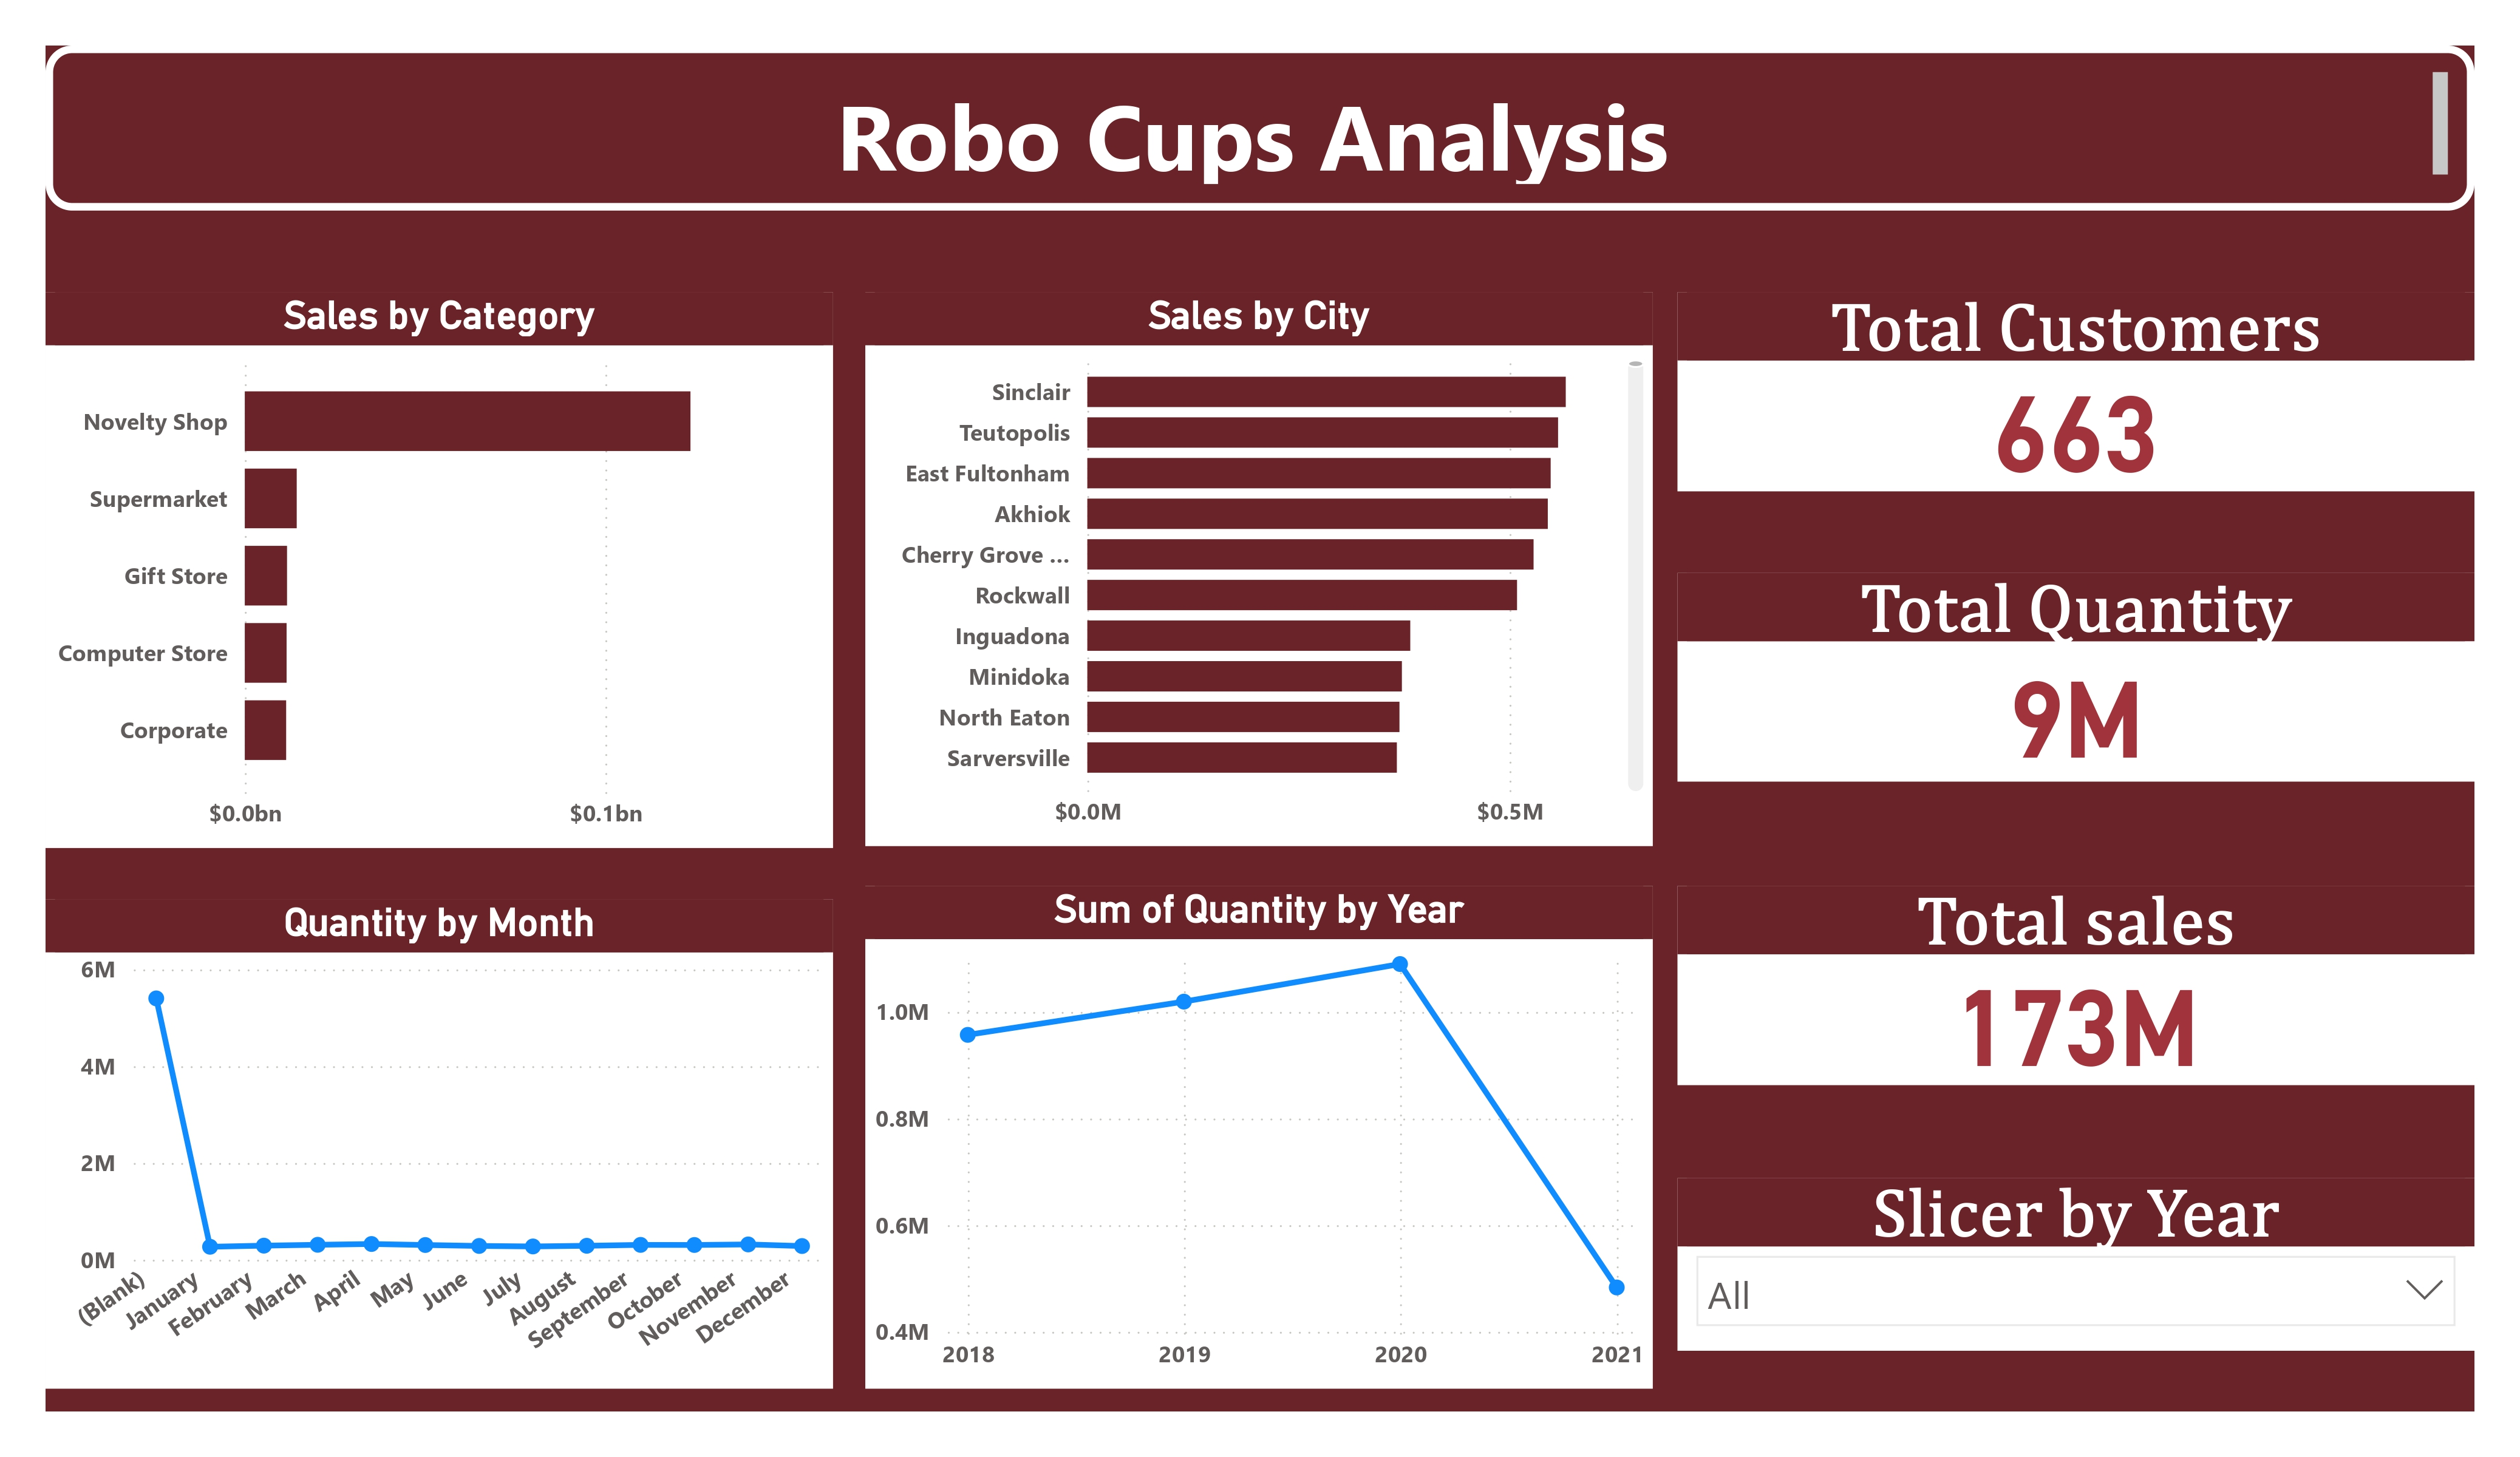

What the dashboard file says about the page in this screenshot:
{"tool":"powerbi","page":{"name":"Overview","canvas":[1280,720],"ordinal":0},"visuals":[{"type":"barChart","title":"Sales by Category","fields":{"Category":["MasterCustomer1.CustomerCategoryName"],"Y":["Sum(InvoiceData.Sales)"]},"box":[0,130,415,293.3],"z":0},{"type":"slicer","title":"Slicer by Year","fields":{"Values":["InvoiceData.Date.Variation.Date Hierarchy.Year"]},"box":[860,596.7,420,91.7],"z":1000},{"type":"lineChart","title":" Quantity by Month","fields":{"Y":["Sum(InvoiceData.Quantity)"],"Category":["InvoiceData.Date.Variation.Date Hierarchy.Month"]},"box":[0,450,415,258.3],"z":2000},{"type":"textbox","box":[0,0,1280,86.7],"z":3000},{"type":"card","title":"Total sales","fields":{"Values":["InvoiceData.Total Sales"]},"box":[860,443.3,420,105],"z":4000},{"type":"card","title":"Total Quantity","fields":{"Values":["InvoiceData.Total Quantity"]},"box":[860,278.3,420,110],"z":5000},{"type":"card","title":"Total Customers","fields":{"Values":["InvoiceData.Total Customers"]},"box":[860,130,420,105],"z":6000},{"type":"barChart","title":"Sales by City","fields":{"Y":["Sum(InvoiceData.Sales)"],"Category":["MasterCustomer1.City"]},"box":[431.7,130,415,291.7],"z":7000},{"type":"lineChart","fields":{"Category":["InvoiceData.Date.Variation.Date Hierarchy.Year"],"Y":["Sum(InvoiceData.Quantity)"]},"box":[431.7,443.3,415,265],"z":8000}]}

Visuals, with their boxes in screenshot pixels (x1, y1, x2, y2):
"Sales by Category" barChart: <box>46,292,833,849</box>
"Slicer by Year" slicer: <box>1677,1178,2474,1351</box>
" Quantity by Month" lineChart: <box>46,899,833,1389</box>
textbox: <box>46,46,2474,210</box>
"Total sales" card: <box>1677,886,2474,1085</box>
"Total Quantity" card: <box>1677,574,2474,782</box>
"Total Customers" card: <box>1677,292,2474,491</box>
"Sales by City" barChart: <box>865,292,1652,846</box>
lineChart - InvoiceData.Date.Variation.Date Hierarchy.Year x Sum(InvoiceData.Quantity): <box>865,886,1652,1389</box>
